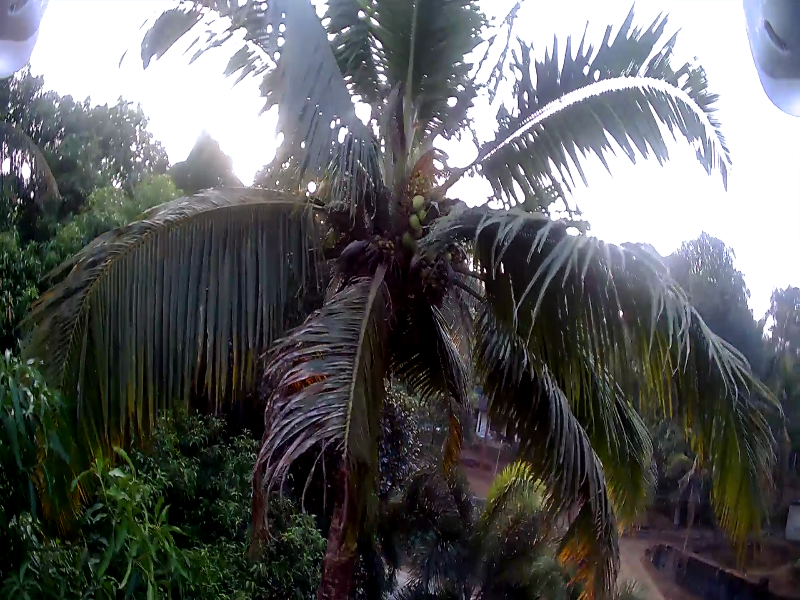coconut: (412, 193, 423, 209), (408, 214, 419, 229), (403, 231, 412, 242), (440, 251, 450, 260)
